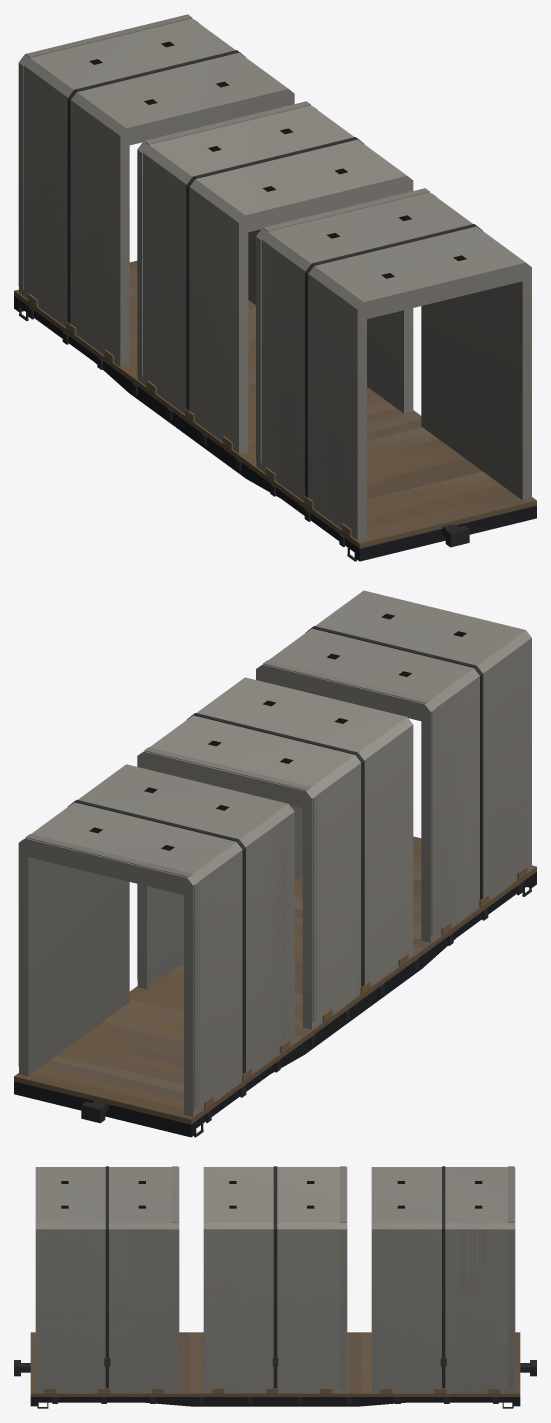
The model's file is culvert.glb.
3 views of the same model, one above another, from view 1: azimuth 30°, elevation 25°; view 2: azimuth 150°, elevation 25°; view 3: azimuth 270°, elevation 25° (orthographic). The views are drawn at different scales.
Parts seen in each view (by area): view 1: Far, Load, Body; view 2: Far, Load, Body; view 3: Far, Load, Body.
Part boxes in pixels (x1=…): Far: x1=16, y1=18, x2=536, y2=543; Load: x1=18, y1=14, x2=482, y2=540; Body: x1=14, y1=260, x2=536, y2=561; Far: x1=15, y1=590, x2=535, y2=1118; Load: x1=18, y1=613, x2=531, y2=1114; Body: x1=14, y1=836, x2=536, y2=1137; Far: x1=30, y1=1167, x2=520, y2=1393; Load: x1=35, y1=1166, x2=515, y2=1392; Body: x1=14, y1=1332, x2=536, y2=1408.
Bounding box in the file's own units: 5.99 × 8.28 × 21.36.
